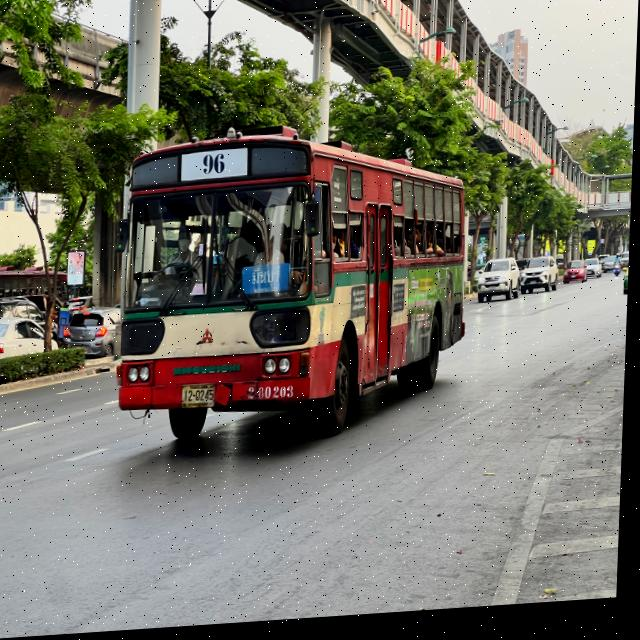BMTA-bus: (108, 110, 479, 465)
Bus-Line-Number: (194, 150, 237, 185)
Destination-Sign-Normal: (241, 267, 295, 299)
